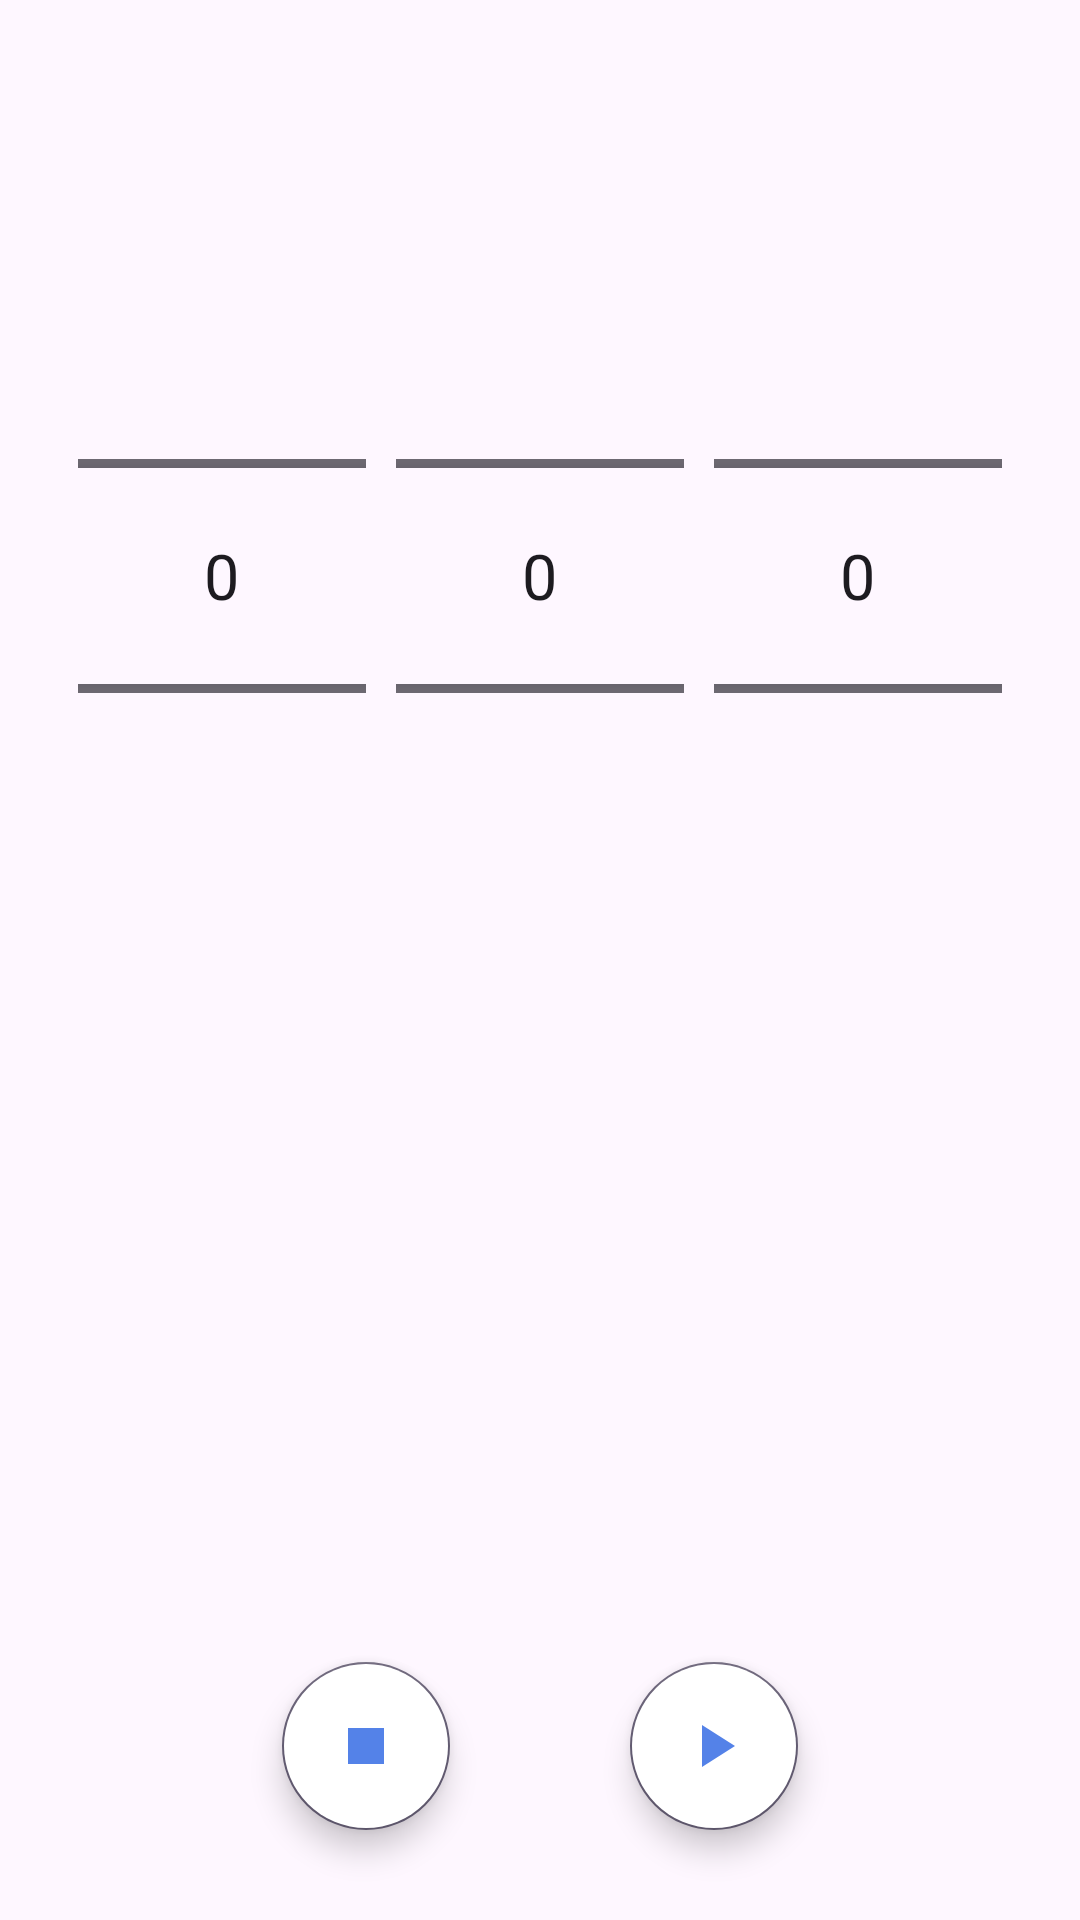

Locate icon controls on the screen. Image size 1080 × 1920, boxes as Rect(x1, y1, x2, y2).
play arrow: Rect(630, 1662, 798, 1830)
stop: Rect(282, 1662, 450, 1830)
